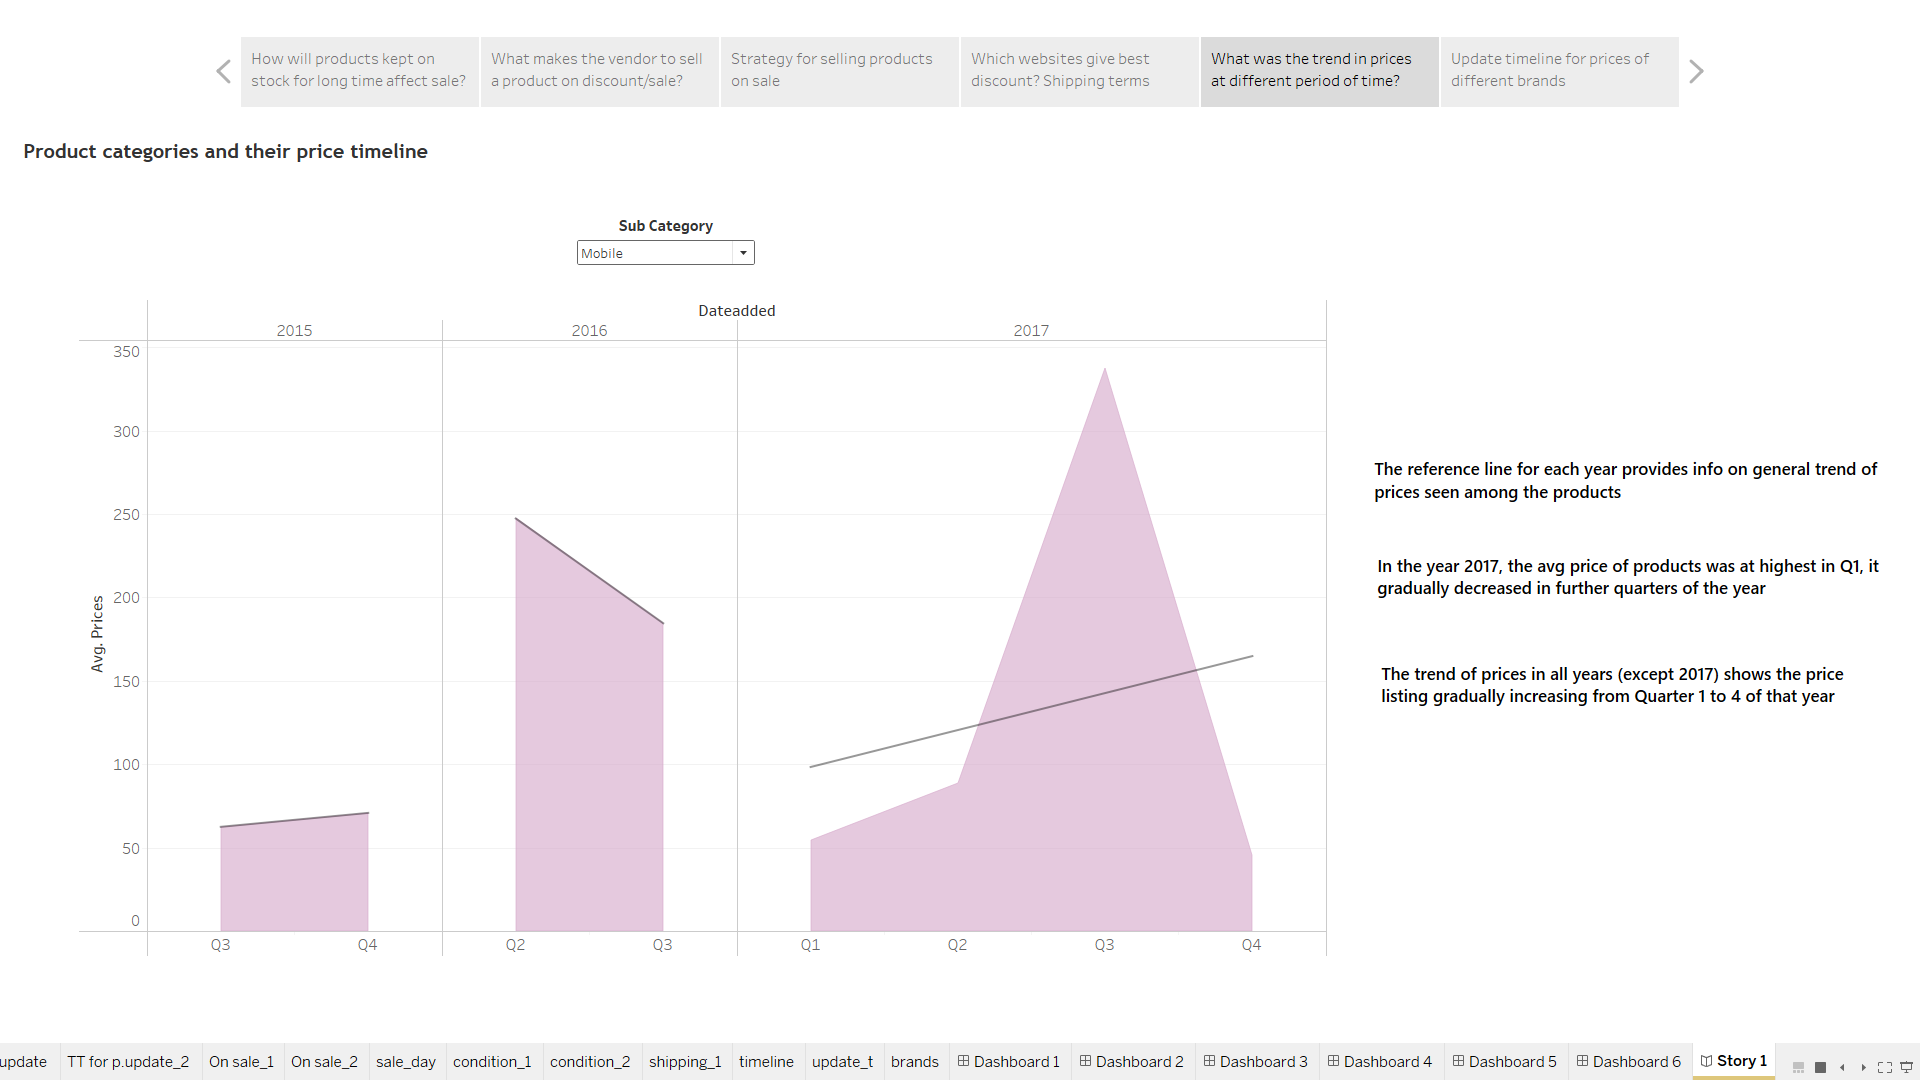

This screenshot's page, from the dashboard's own definition file:
{"tool":"tableau","page":{"name":"Dashboard 5","canvas":[1000,1000],"units":"permille","ordinal":4},"visuals":[{"type":"title","box":[4.8,9.3,990.3,37.2]},{"type":"filter","title":"timeline","param":"[federated.1vl33a51myhwji18jspvm1r1us8n].[none:sub category 1:nk]","box":[297.5,96.4,96.6,61.6]},{"type":"worksheet","title":"timeline","mark":"Area","rows":["prices_amountmax"],"cols":["dateadded","dateadded"],"box":[37.4,190.5,655.4,723.6]},{"type":"text","box":[715.8,305.5,269.2,167.2]},{"type":"text","box":[717.6,369.3,275.8,252]},{"type":"text","box":[719.4,513.4,272.8,202.1]}]}

Visuals, with their boxes on the dashboard's canvas, which has no fixed pixel size, in thousandths of its width and height (x1, y1, x2, y2). These are canvas units, not pixel positions in the 1920x1080 screenshot, which may show the page scaled, cropped or inside an application window:
title: locate(5, 9, 995, 46)
"timeline" filter: locate(298, 96, 394, 158)
"timeline" worksheet (Area marks): locate(37, 190, 693, 914)
text: locate(716, 306, 985, 473)
text: locate(718, 369, 993, 621)
text: locate(719, 513, 992, 716)
